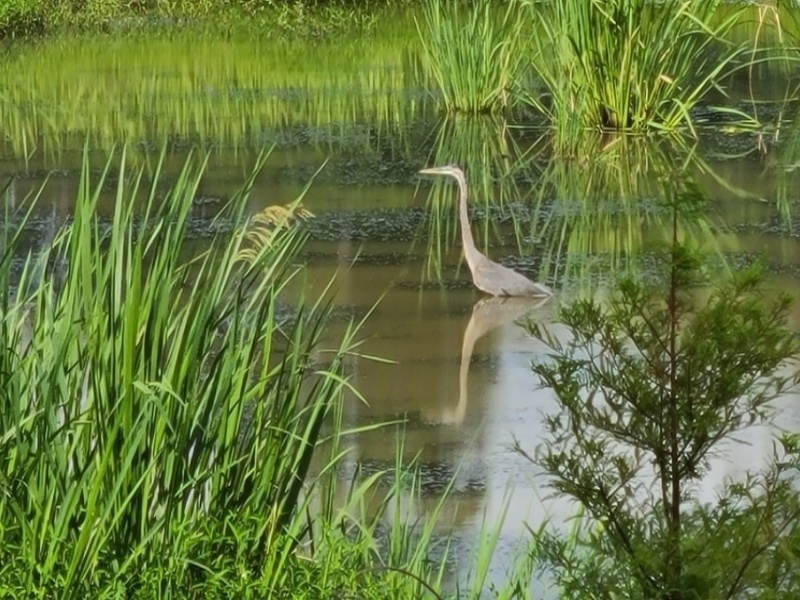heron: (417, 159, 554, 299)
